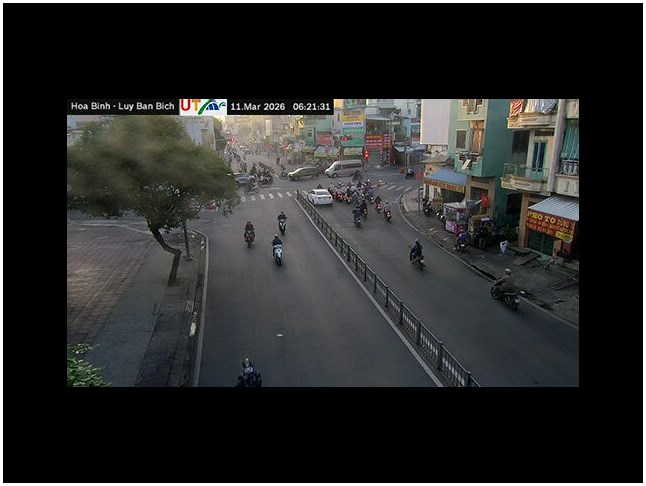car: (325, 159, 366, 178), (287, 164, 322, 181), (310, 189, 334, 205), (235, 174, 258, 188)
motorbike: (272, 242, 284, 267)
